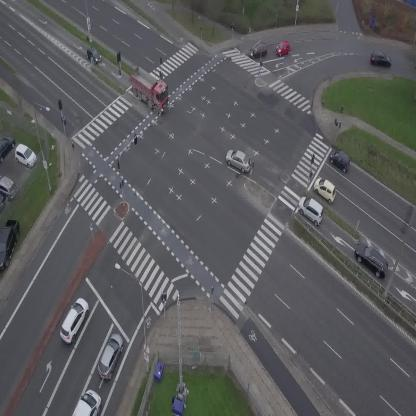car: (349, 238, 395, 282), (55, 295, 93, 345), (93, 331, 128, 381), (293, 193, 330, 227), (222, 146, 255, 175), (309, 175, 341, 204), (326, 147, 354, 173), (82, 45, 103, 66), (370, 51, 392, 66), (249, 42, 268, 57), (275, 40, 291, 56)
lorry: (122, 62, 178, 116), (72, 389, 101, 416)
